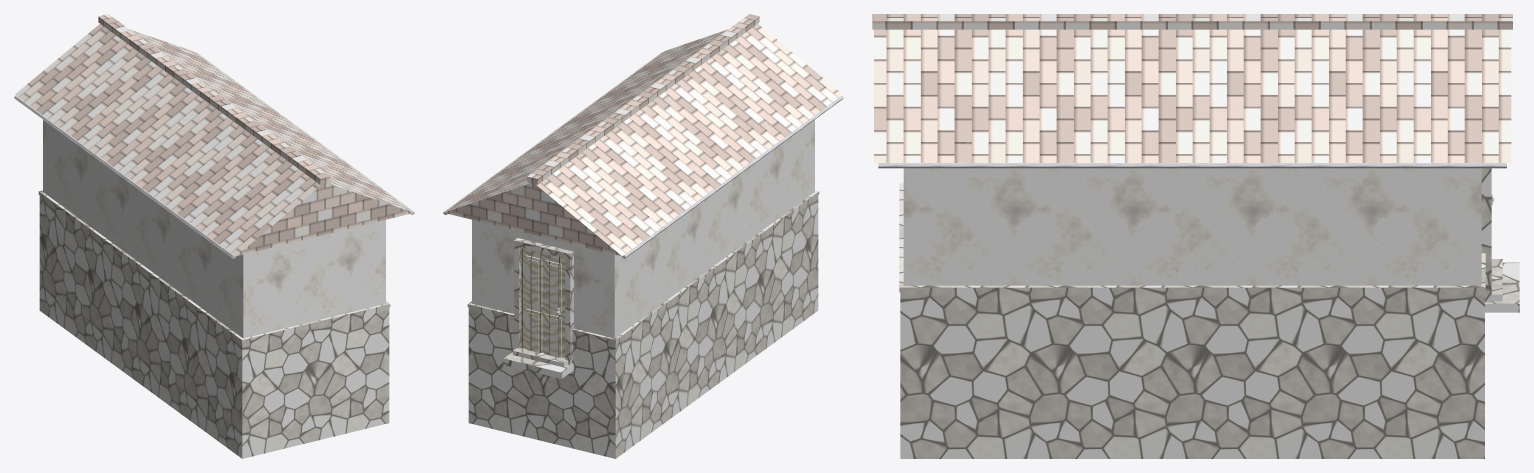
3 renders of one model, left to right at view 1: azimuth 30°, elevation 25°; view 2: azimuth 150°, elevation 25°; view 3: azimuth 270°, elevation 25°, orthographic. The views are drawn at different scales.
Visible parts, largest first — view 1: b615241430; view 2: b615241430; view 3: b615241430.
Boxes of the visible parts, left/top/right/bottom form: b615241430: left=14, top=14, right=414, bottom=458; b615241430: left=443, top=14, right=843, bottom=458; b615241430: left=872, top=14, right=1519, bottom=458.
Size of the model in its own units: 3.58 by 5.06 by 7.62.
11 materials, 11 textured.
